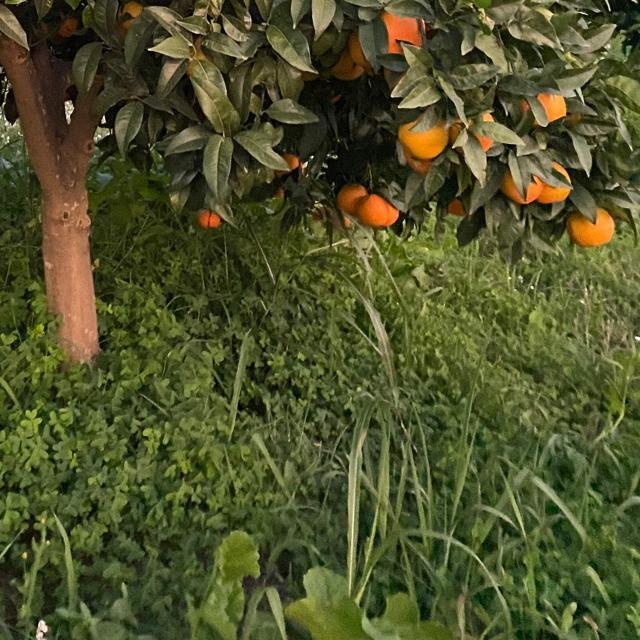orange: (500, 157, 568, 201), (505, 157, 571, 201), (372, 13, 426, 65), (449, 109, 495, 155), (398, 115, 448, 157), (569, 203, 615, 245), (520, 90, 568, 124), (357, 191, 397, 227), (322, 52, 360, 82), (115, 0, 147, 34), (337, 180, 369, 212), (399, 152, 435, 178), (53, 19, 83, 43), (350, 29, 366, 73), (447, 195, 477, 215), (196, 209, 224, 229), (314, 206, 330, 222), (285, 154, 301, 168), (335, 217, 353, 229), (272, 183, 286, 197)
